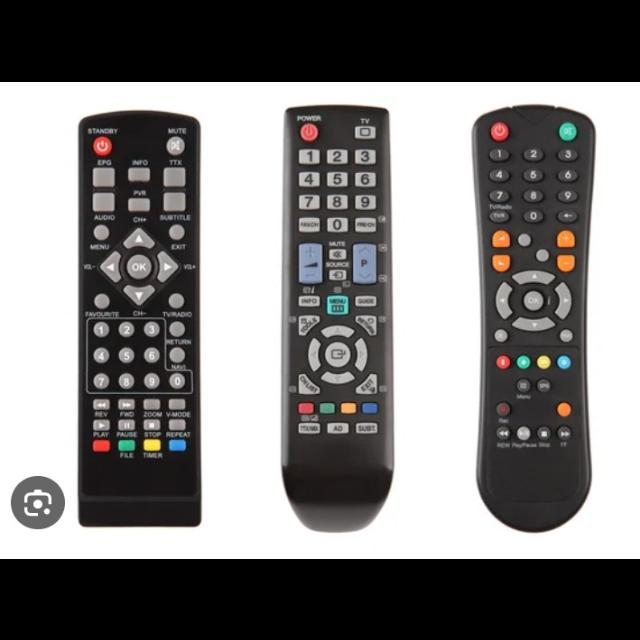TV-Remote-Control: (74, 109, 204, 530), (472, 103, 598, 535), (281, 104, 397, 535)
